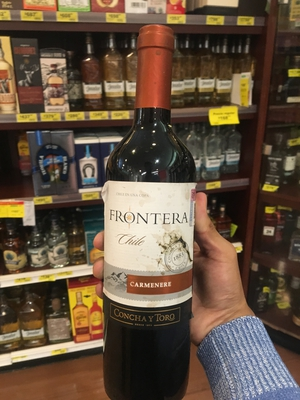frontera carmenere: (91, 28, 215, 383)
